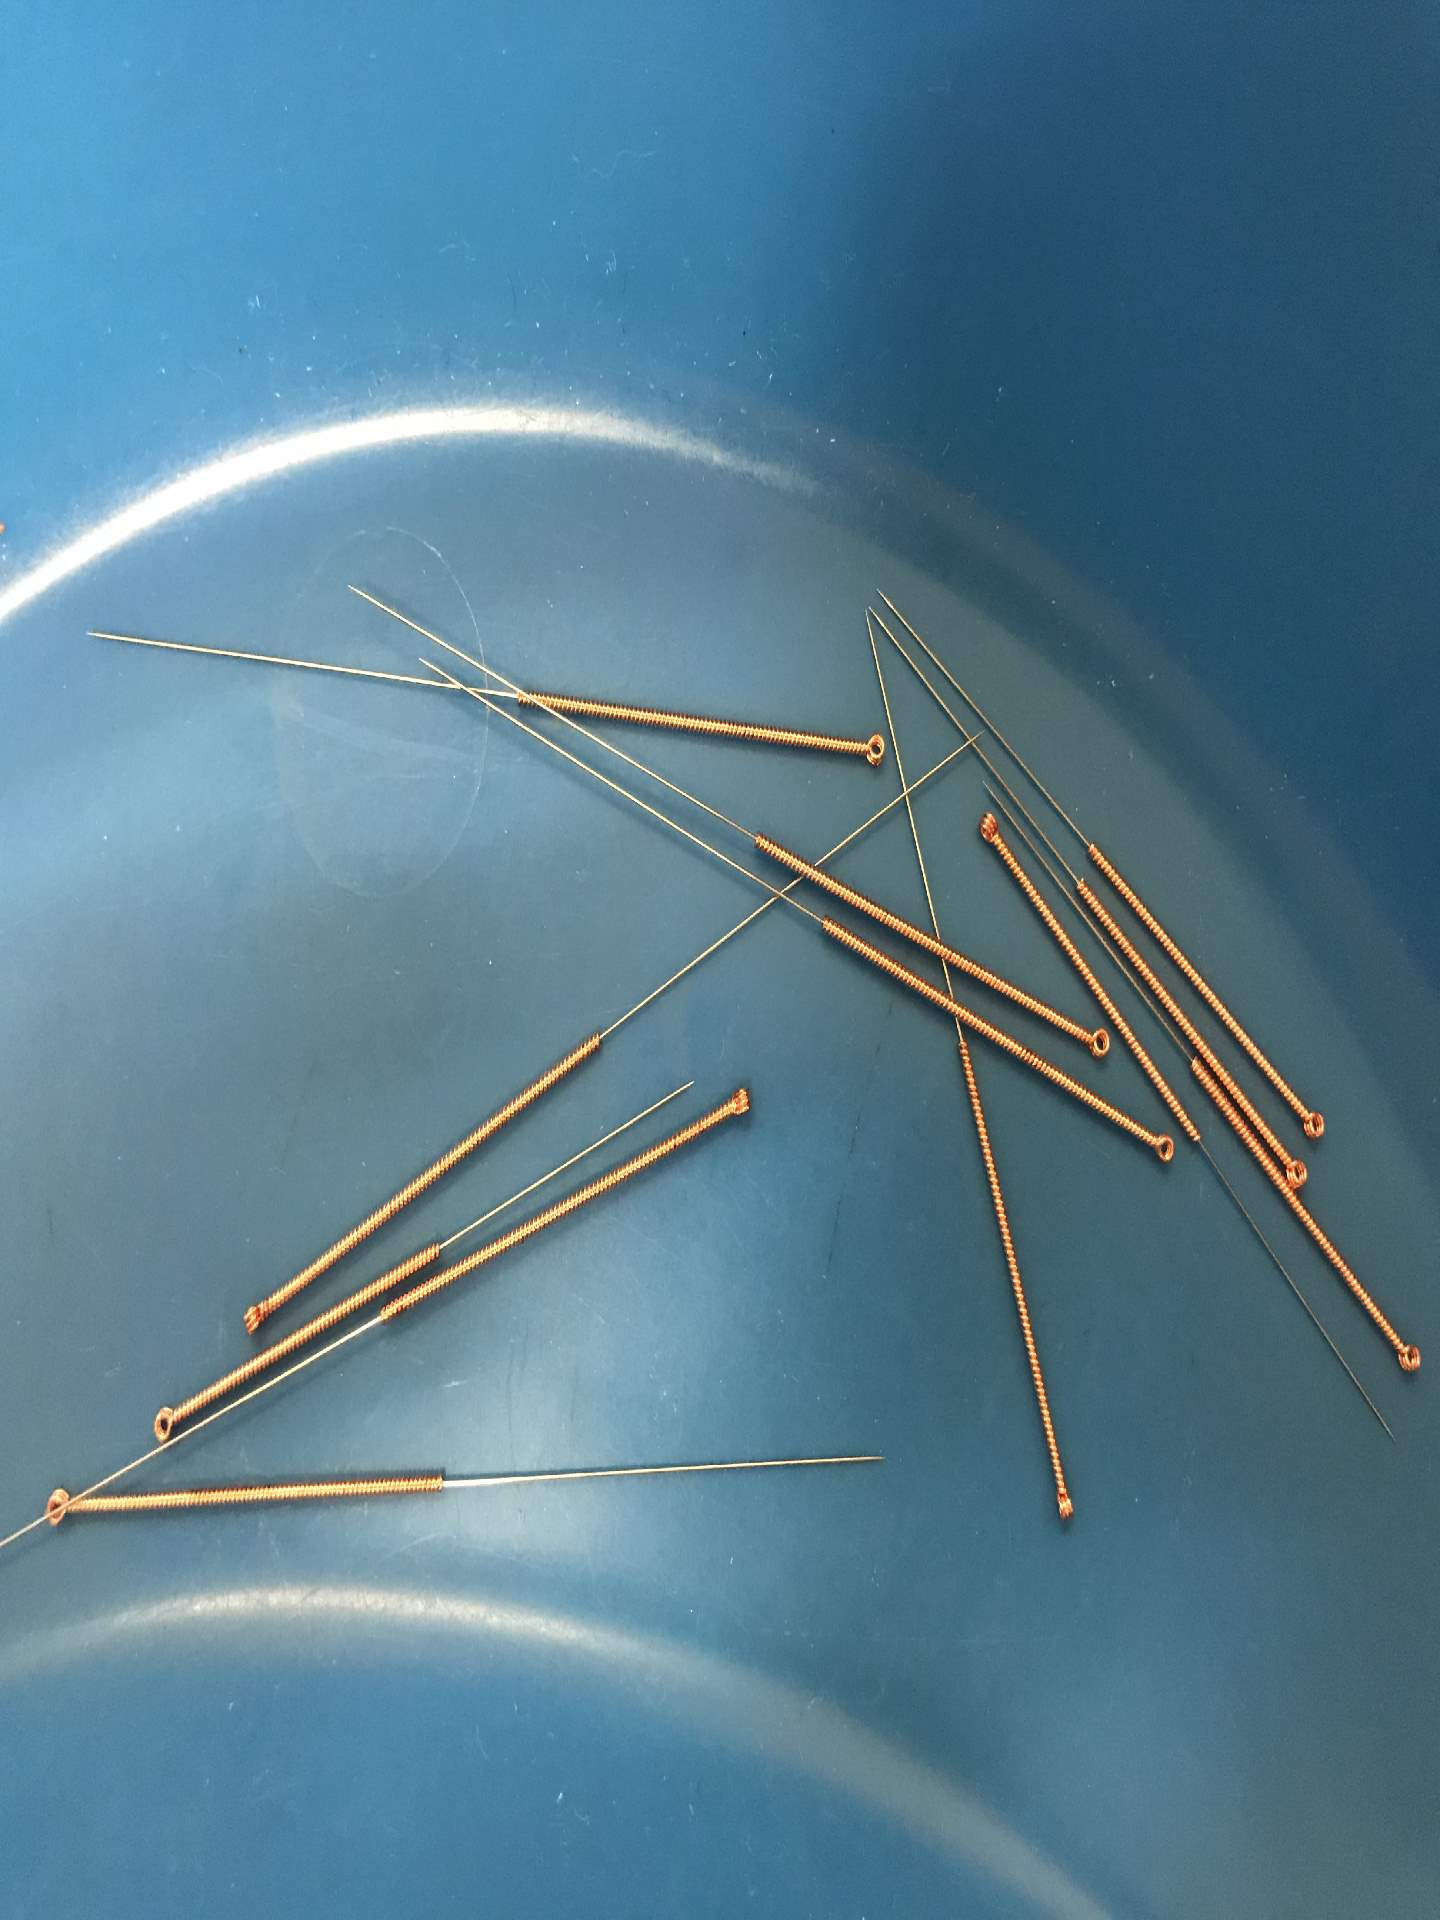needle: (30, 1476, 88, 1544), (703, 1073, 765, 1132), (1128, 1123, 1183, 1179), (1383, 1324, 1429, 1388), (843, 723, 895, 779), (1042, 1463, 1083, 1534), (224, 1293, 278, 1346), (964, 798, 1007, 859), (139, 1395, 188, 1450), (1287, 1090, 1336, 1144), (1069, 1017, 1116, 1067), (1281, 1137, 1314, 1194)
